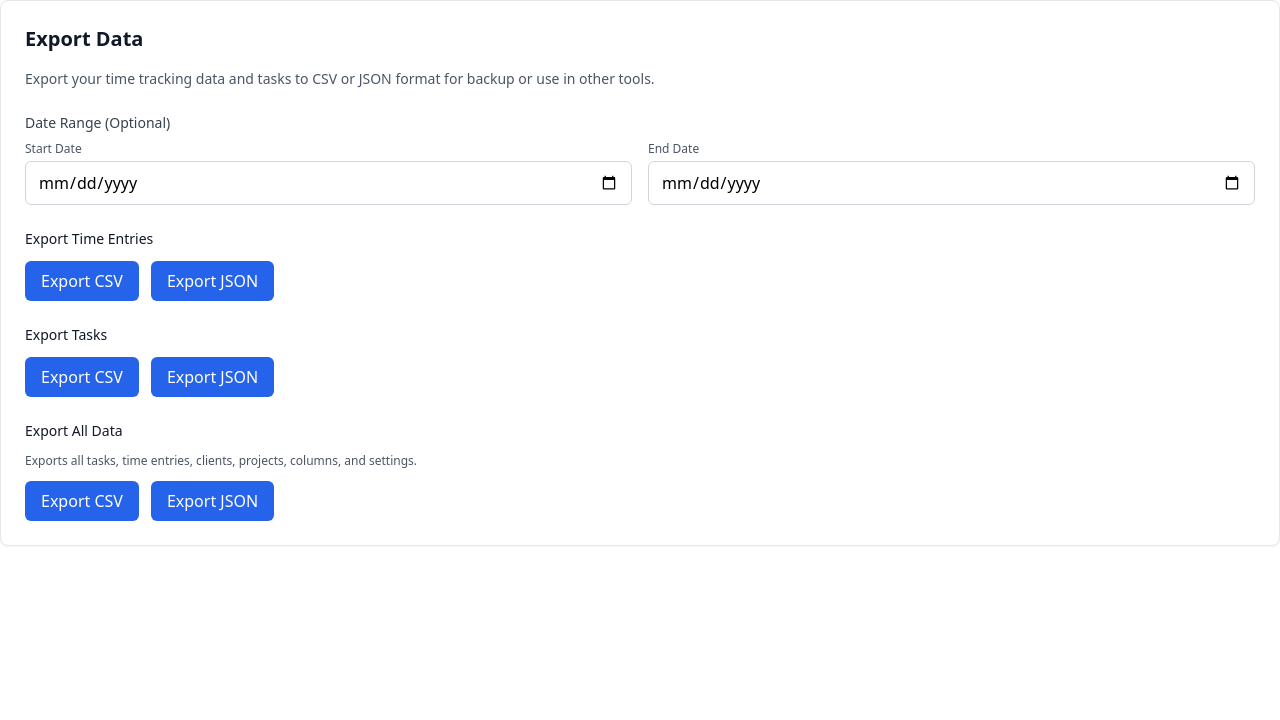
Test: ExportOptions › time entries export › shows loading state during export
The width and height of the screenshot is (1280, 720).
Click the button with aria-label "Export time entries as CSV" at point(82, 281), box [25,261,139,301]
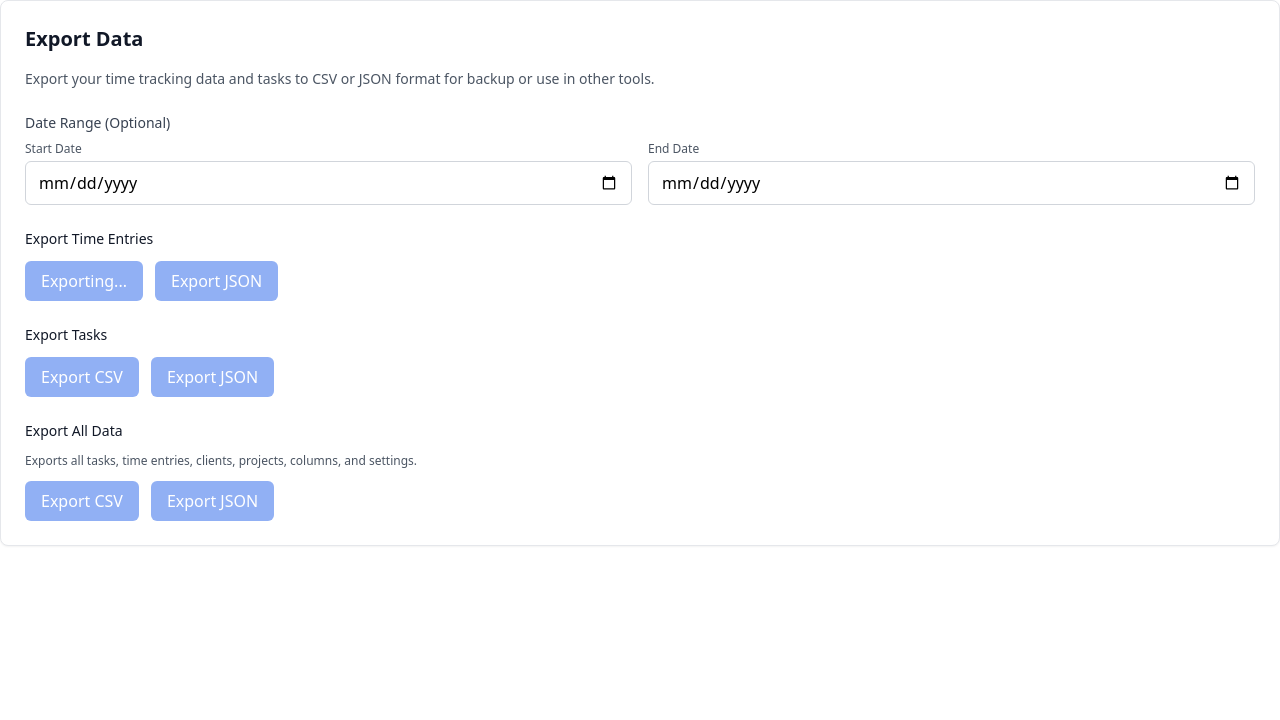
Expected: the button "Exporting..." is disabled, [25,261,143,301]
